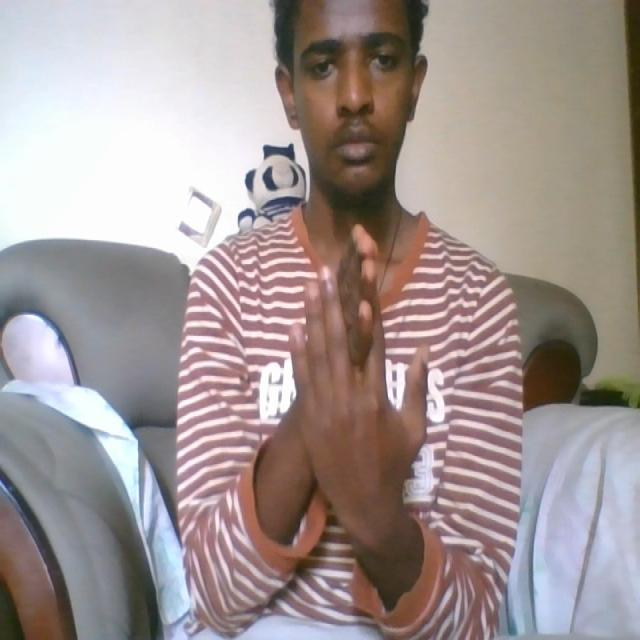bekul: (283, 219, 436, 533)
